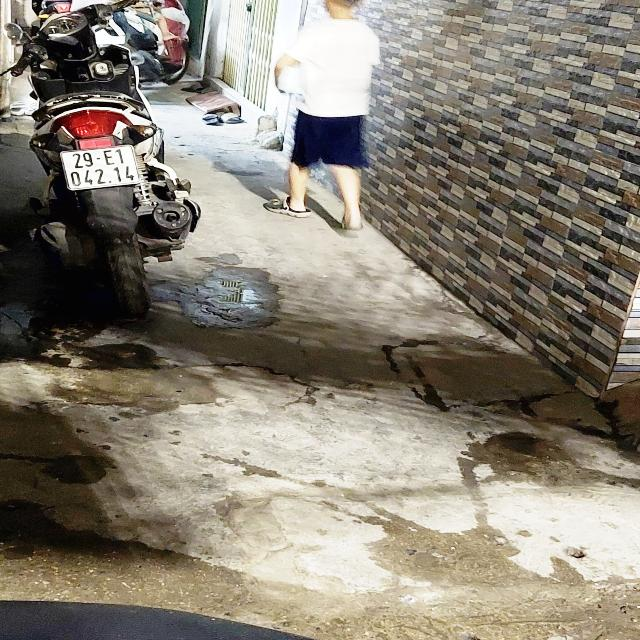license_plate: (53, 142, 149, 196)
